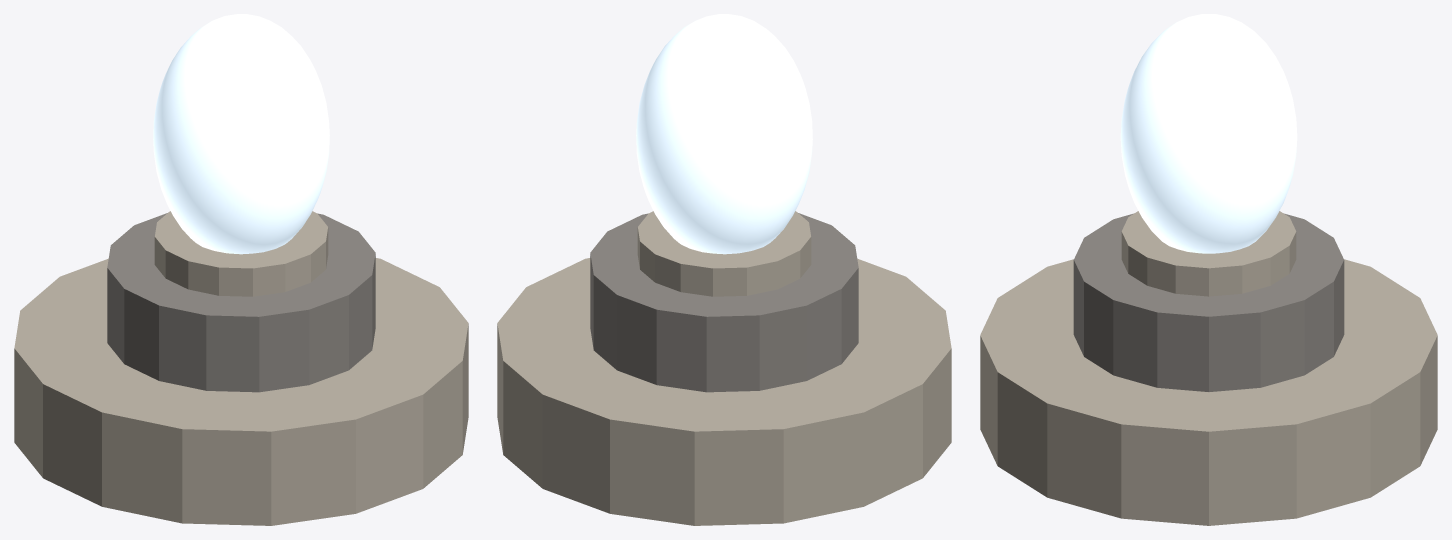
Rendered from prop_yazh_egg.fbx.
3 views of the same model, side by side, from view 1: azimuth 30°, elevation 25°; view 2: azimuth 150°, elevation 25°; view 3: azimuth 270°, elevation 25° (orthographic).
Visible parts, largest first — view 1: prop_yazh_egg; view 2: prop_yazh_egg; view 3: prop_yazh_egg.
Boxes of the visible parts, x1,y1,x2,y2 form: prop_yazh_egg: (14, 14, 468, 525); prop_yazh_egg: (497, 14, 951, 525); prop_yazh_egg: (980, 14, 1437, 525).
Bounding box in the file's own units: 220 × 218 × 220.
